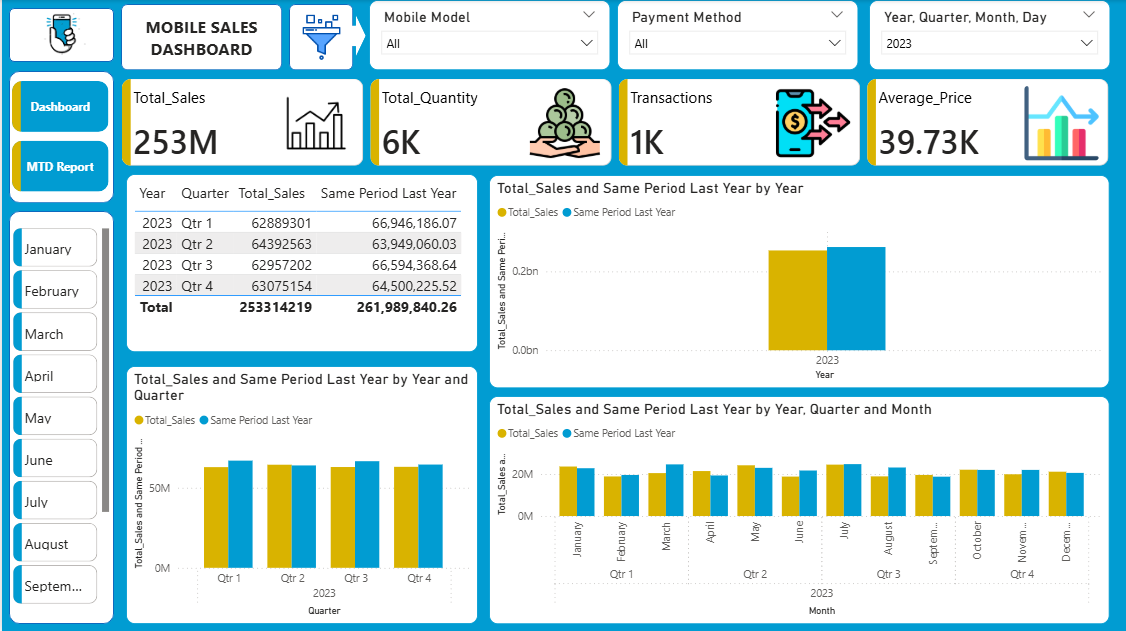

Layout of this report page (visuals, bound fields, positions):
{"tool":"powerbi","page":{"name":"Same Period Last Year","canvas":[1280,720],"ordinal":2},"visuals":[{"type":"shape","box":[8,9.1,119.6,61.5],"z":0},{"type":"image","box":[32.6,9,69.8,61.9],"z":1000},{"type":"shape","box":[8,80.9,119.6,150.4],"z":2000},{"type":"shape","box":[8,240.4,119.6,470.5],"z":3000},{"type":"advancedSlicerVisual","fields":{"Values":["Custom_Calendar.Date.Variation.Date Hierarchy.Month"]},"box":[7.9,255.5,119.3,443.6],"z":4000},{"type":"cardVisual","fields":{"Data":["Sales_Data.Total_Sales","Sales_Data.Total_Quantity","Sales_Data.Transactions","Sales_Data.Average_Price"]},"box":[127.2,81.1,1144.9,117.1],"z":5000},{"type":"slicer","fields":{"Values":["Sales_Data.Mobile Model"]},"box":[417.7,0,274.7,79.9],"z":6000},{"type":"slicer","fields":{"Values":["Sales_Data.Payment Method"]},"box":[700.2,0,274.7,79.9],"z":7000},{"type":"slicer","fields":{"Values":["Custom_Calendar.Date.Variation.Date Hierarchy.Year","Custom_Calendar.Date.Variation.Date Hierarchy.Quarter","Custom_Calendar.Date.Variation.Date Hierarchy.Month","Custom_Calendar.Date.Variation.Date Hierarchy.Day"]},"box":[987.3,0,274.7,79.9],"z":8000},{"type":"shape","box":[326.5,4.5,73.2,75.4],"z":9000},{"type":"image","box":[331,15.8,65.3,52.9],"z":10000},{"type":"shape","box":[391.8,16.9,22.5,47.3],"z":11000},{"type":"shape","box":[135.1,4.5,183.5,75.4],"z":12000},{"type":"textbox","box":[140.7,12.4,172.2,60.8],"z":13000},{"type":"tableEx","fields":{"Values":["Custom_Calendar.Date.Variation.Date Hierarchy.Year","Custom_Calendar.Date.Variation.Date Hierarchy.Quarter","Sales_Data.Total_Sales","Sales_Data.Same Period Last Year"]},"box":[141.3,198.2,401,202.8],"z":14000},{"type":"clusteredColumnChart","fields":{"Category":["Custom_Calendar.Date.Variation.Date Hierarchy.Year","Custom_Calendar.Date.Variation.Date Hierarchy.Quarter"],"Y":["Sales_Data.Total_Sales","Sales_Data.Same Period Last Year"]},"box":[554.8,199.4,707.5,242.7],"z":15000},{"type":"clusteredColumnChart","fields":{"Y":["Sales_Data.Total_Sales","Sales_Data.Same Period Last Year"],"Category":["Custom_Calendar.Date.Variation.Date Hierarchy.Year","Custom_Calendar.Date.Variation.Date Hierarchy.Quarter","Custom_Calendar.Date.Variation.Date Hierarchy.Month","Custom_Calendar.Date.Variation.Date Hierarchy.Day"]},"box":[554.8,451.1,707.5,259.7],"z":16000},{"type":"clusteredColumnChart","fields":{"Category":["Custom_Calendar.Date.Variation.Date Hierarchy.Year","Custom_Calendar.Date.Variation.Date Hierarchy.Quarter"],"Y":["Sales_Data.Total_Sales","Sales_Data.Same Period Last Year"]},"box":[141.3,417,401,293.9],"z":17000},{"type":"pageNavigator","box":[11.4,92.3,110.5,127.6],"z":18000}]}

Visuals, with their boxes in screenshot pixels (x1, y1, x2, y2), scaled from the page's 1280x720 canvas onto the 1126x631 screenshot:
shape: box(7, 8, 112, 62)
image: box(29, 8, 90, 62)
shape: box(7, 71, 112, 203)
shape: box(7, 211, 112, 623)
advancedSlicerVisual - Custom_Calendar.Date.Variation.Date Hierarchy.Month: box(7, 224, 112, 613)
cardVisual - Sales_Data.Total_Sales x Sales_Data.Total_Quantity: box(112, 71, 1119, 174)
slicer - Sales_Data.Mobile Model: box(367, 0, 609, 70)
slicer - Sales_Data.Payment Method: box(616, 0, 858, 70)
slicer - Custom_Calendar.Date.Variation.Date Hierarchy.Year x Custom_Calendar.Date.Variation.Date Hierarchy.Quarter: box(869, 0, 1110, 70)
shape: box(287, 4, 352, 70)
image: box(291, 14, 349, 60)
shape: box(345, 15, 364, 56)
shape: box(119, 4, 280, 70)
textbox: box(124, 11, 275, 64)
tableEx - Custom_Calendar.Date.Variation.Date Hierarchy.Year x Custom_Calendar.Date.Variation.Date Hierarchy.Quarter: box(124, 174, 477, 351)
clusteredColumnChart - Custom_Calendar.Date.Variation.Date Hierarchy.Year x Custom_Calendar.Date.Variation.Date Hierarchy.Quarter: box(488, 175, 1110, 387)
clusteredColumnChart - Sales_Data.Total_Sales x Sales_Data.Same Period Last Year: box(488, 395, 1110, 623)
clusteredColumnChart - Custom_Calendar.Date.Variation.Date Hierarchy.Year x Custom_Calendar.Date.Variation.Date Hierarchy.Quarter: box(124, 365, 477, 623)
pageNavigator: box(10, 81, 107, 193)
